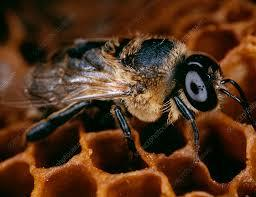worker-bee: (0, 35, 255, 163)
